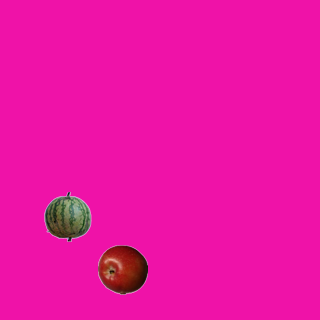Apple Braeburn: (97, 244, 147, 294)
Watermelon: (42, 191, 92, 241)
